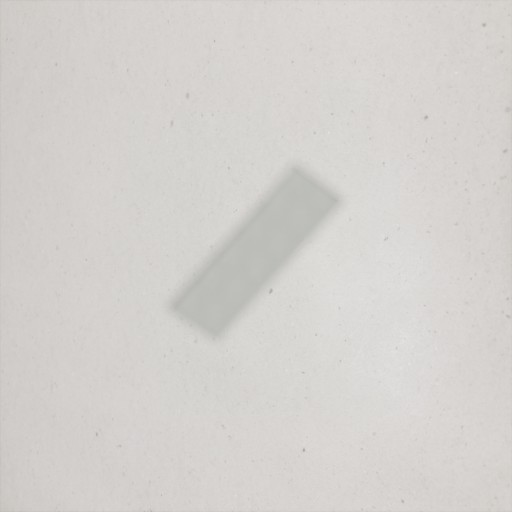lego: (166, 161, 346, 345)
